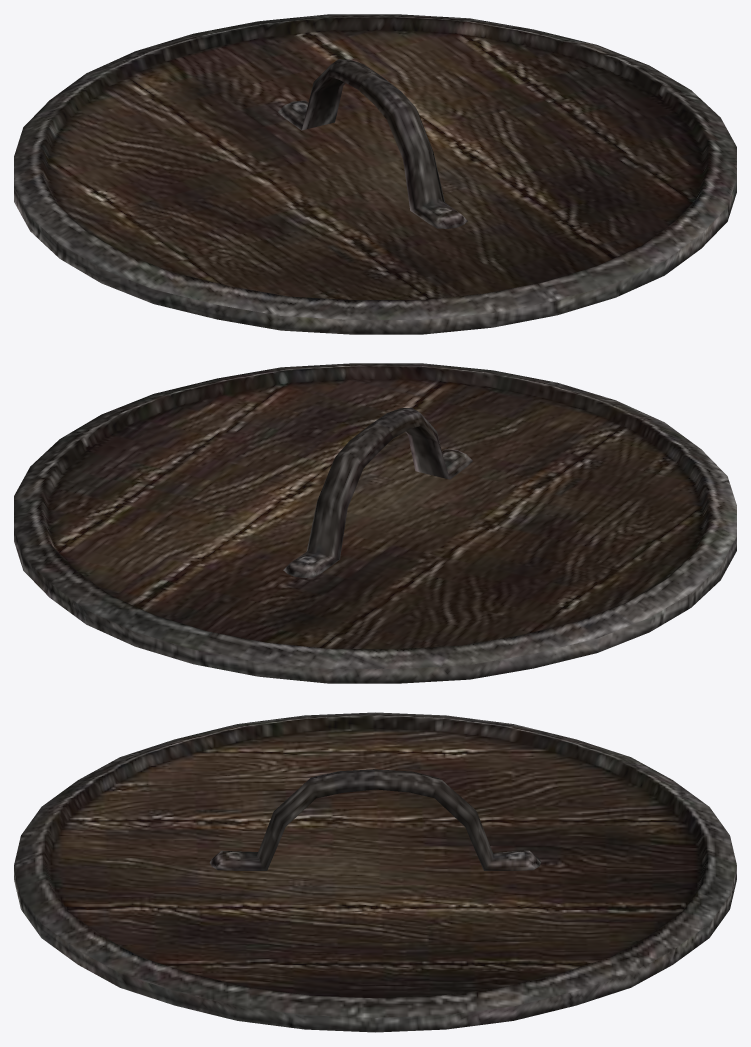
File: iron-shield.glb
3 renders of one model, top to bottom at view 1: azimuth 30°, elevation 25°; view 2: azimuth 150°, elevation 25°; view 3: azimuth 270°, elevation 25°, orthographic.
Visible parts, largest first — view 1: IronShield:0; view 2: IronShield:0; view 3: IronShield:0.
Boxes of the visible parts, x1,y1,x2,y2 form: IronShield:0: (14,14,736,334); IronShield:0: (14,363,736,683); IronShield:0: (14,712,736,1032).
Size of the model in its own units: 0.62 by 0.1503 by 0.62.
Materials: 1 (1 with a texture image).
